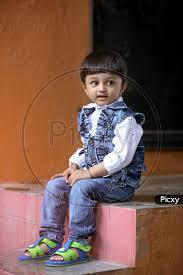Human: (27, 35, 145, 275)
